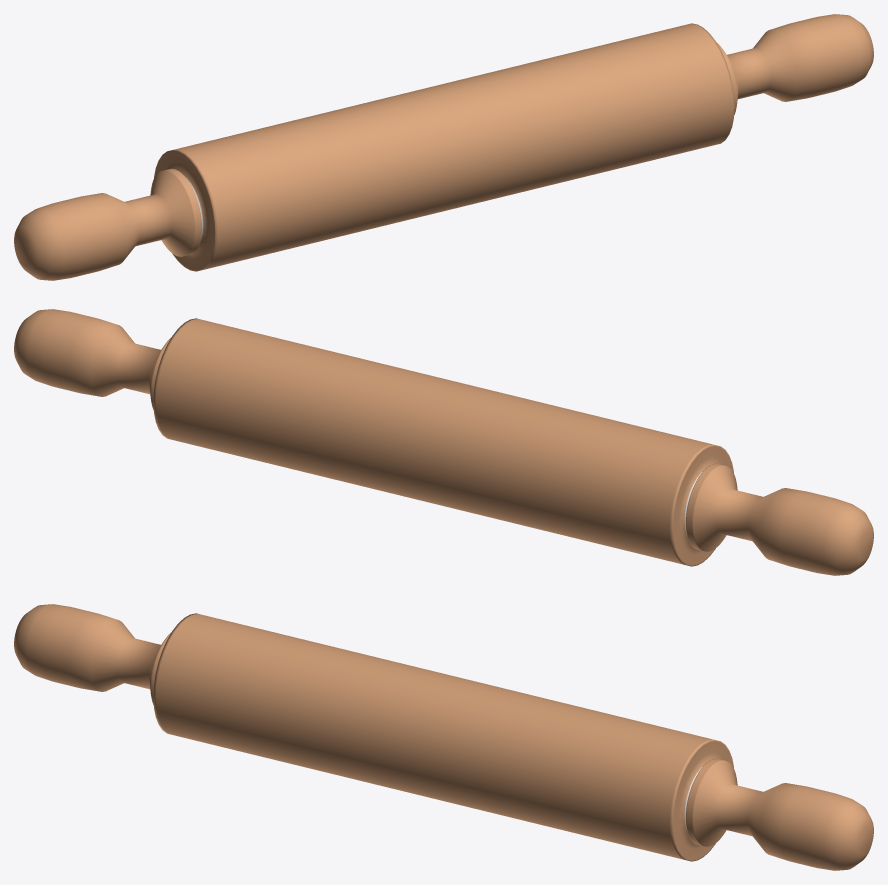
File: bread roller.fbx
The picture shows the model from 3 angles, top to bottom: view 1: azimuth 30°, elevation 25°; view 2: azimuth 150°, elevation 25°; view 3: azimuth 330°, elevation 25°; orthographic projection.
Visible parts, largest first — view 1: Cylinder; view 2: Cylinder; view 3: Cylinder.
Boxes of the visible parts, bbox=[...] form: Cylinder: bbox=[14, 14, 873, 280]; Cylinder: bbox=[14, 309, 873, 575]; Cylinder: bbox=[14, 604, 873, 870].
Size of the model in its own units: 835 by 107 by 107.
